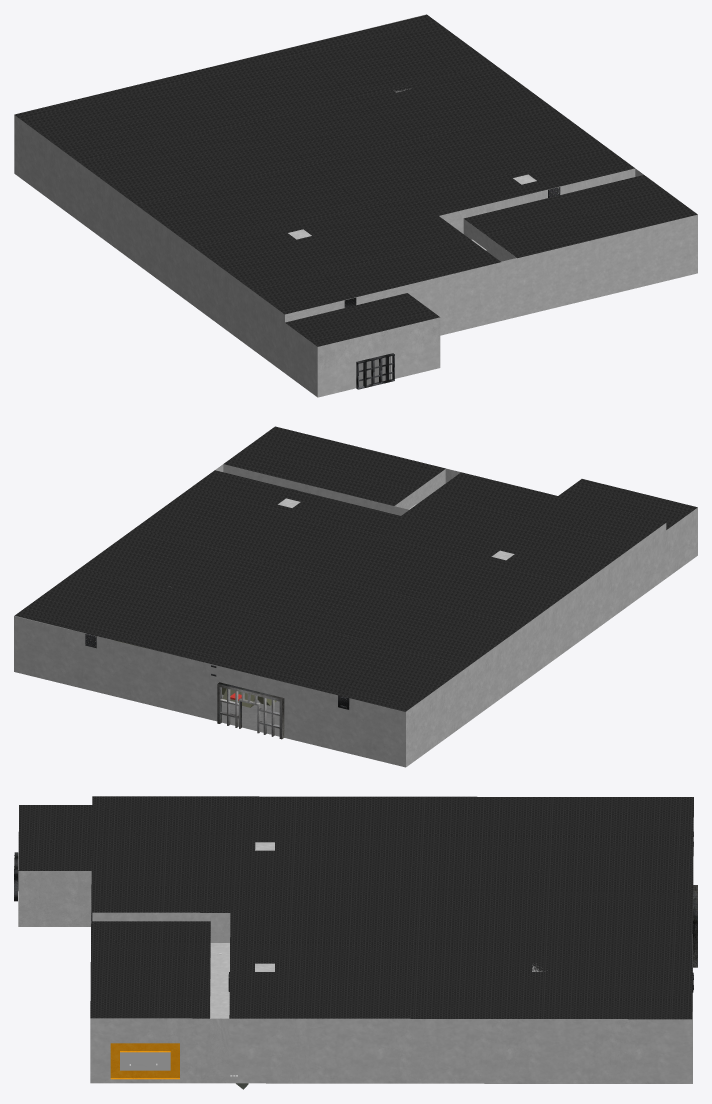
Rendered from Room_17.fbx.
The picture shows the model from 3 angles, top to bottom: view 1: azimuth 30°, elevation 25°; view 2: azimuth 150°, elevation 25°; view 3: azimuth 270°, elevation 25°; orthographic projection. The views are drawn at different scales.
Visible parts, largest first — view 1: polySurface563.001, polySurface563, Close_Door; view 2: polySurface563.001, polySurface563, Cube.098; view 3: polySurface563.001, polySurface563.
Boxes of the visible parts, x1,y1,x2,y2 form: polySurface563.001: [14, 14, 697, 346]; polySurface563: [14, 14, 697, 397]; Close_Door: [356, 353, 394, 389]; polySurface563.001: [15, 426, 697, 711]; polySurface563: [14, 464, 697, 767]; Cube.098: [217, 682, 284, 739]; polySurface563.001: [18, 796, 693, 1019]; polySurface563: [18, 871, 692, 1083].
Bounding box in the file's own units: 2578 × 403 × 3340.
